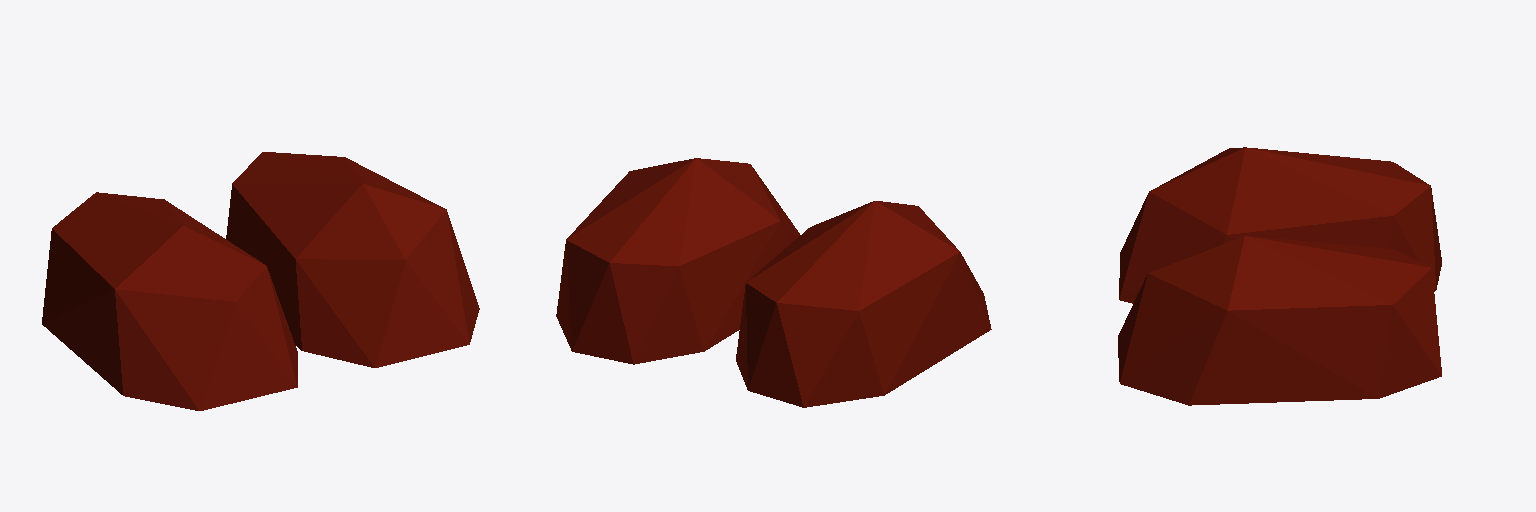
File: brownfeet.obj
3 views of the same model, side by side, from view 1: azimuth 30°, elevation 25°; view 2: azimuth 150°, elevation 25°; view 3: azimuth 270°, elevation 25° (orthographic).
Visible parts, largest first — view 1: Right_Foot, Left_Foot; view 2: Right_Foot, Left_Foot; view 3: Left_Foot, Right_Foot.
Part boxes in pixels (x1,y1,x2,y2): Right_Foot: (42,192,297,410); Left_Foot: (226,152,479,367); Right_Foot: (736,201,991,407); Left_Foot: (556,158,799,364); Left_Foot: (1118,236,1441,405); Right_Foot: (1119,147,1441,303).
Bounding box in the file's own units: 82.03 × 28.51 × 64.76.